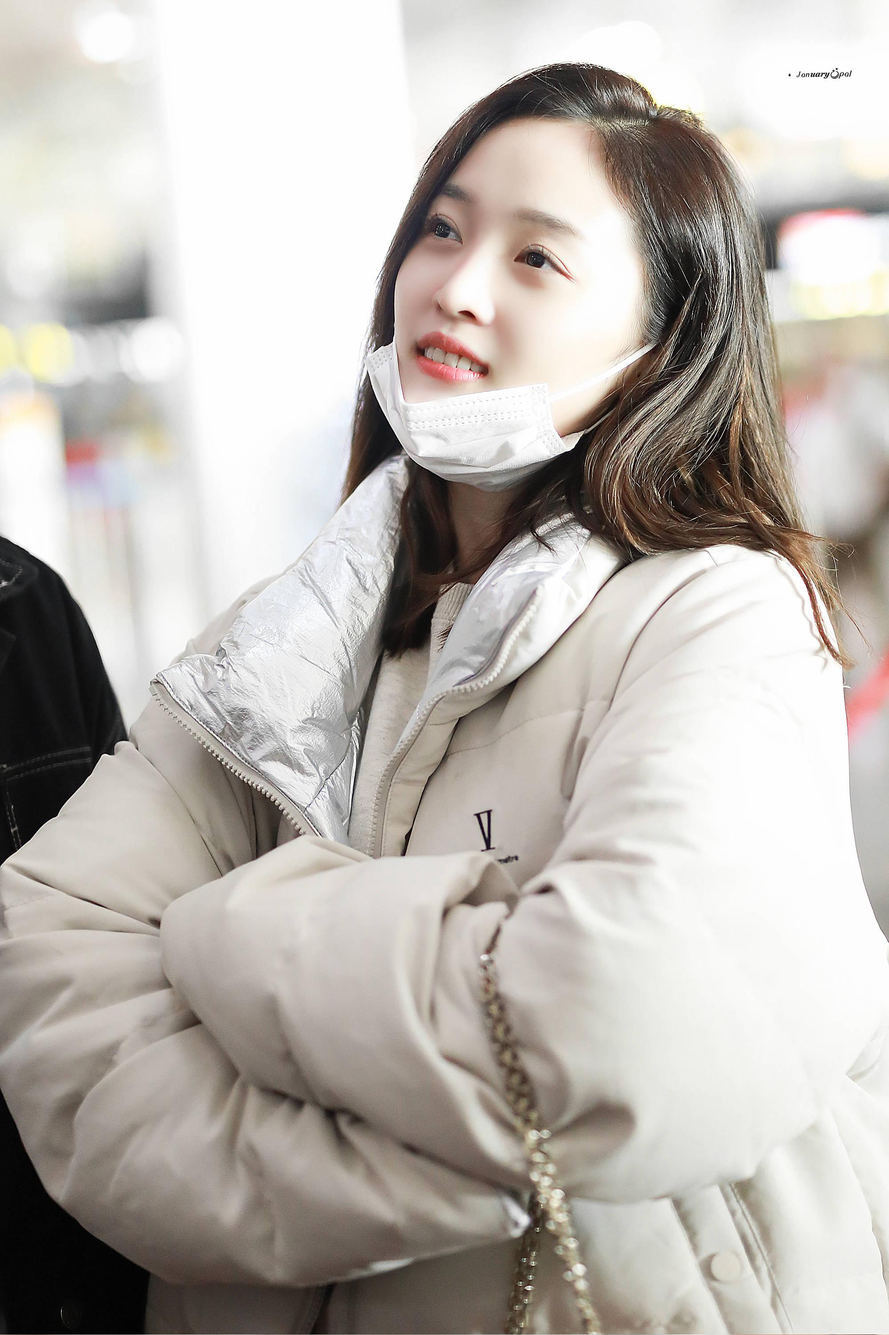WRONG: (391, 173, 631, 464)
